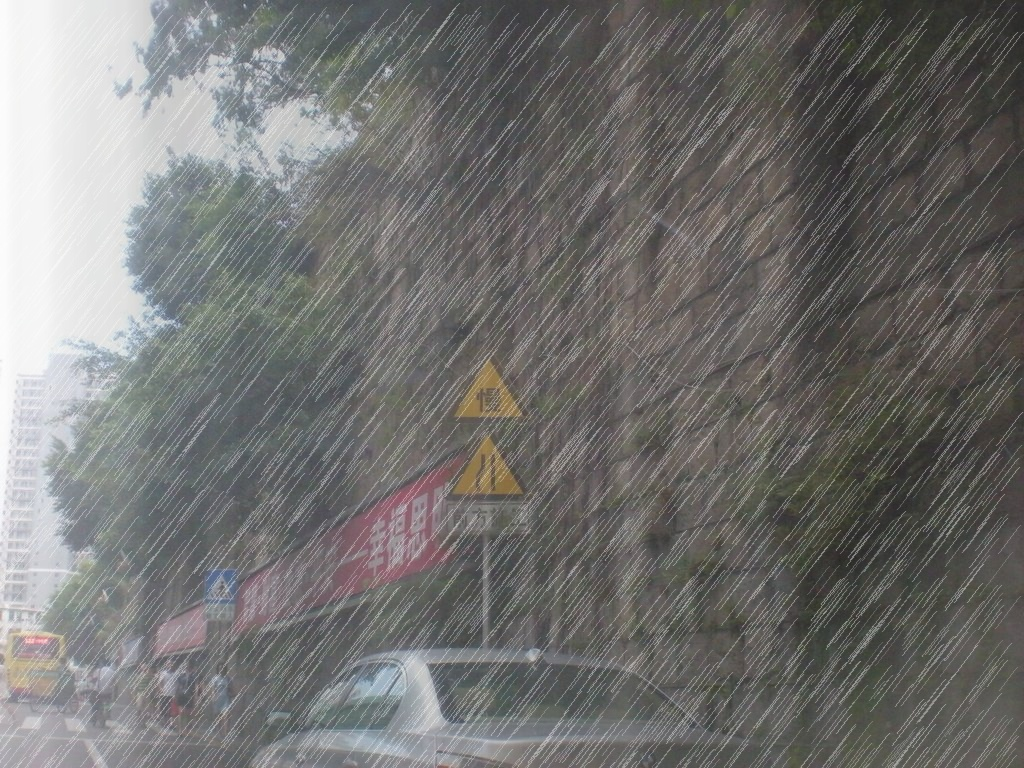Informative Signs: (203, 568, 239, 605)
Warning Signs: (444, 349, 531, 426), (443, 426, 530, 502)
